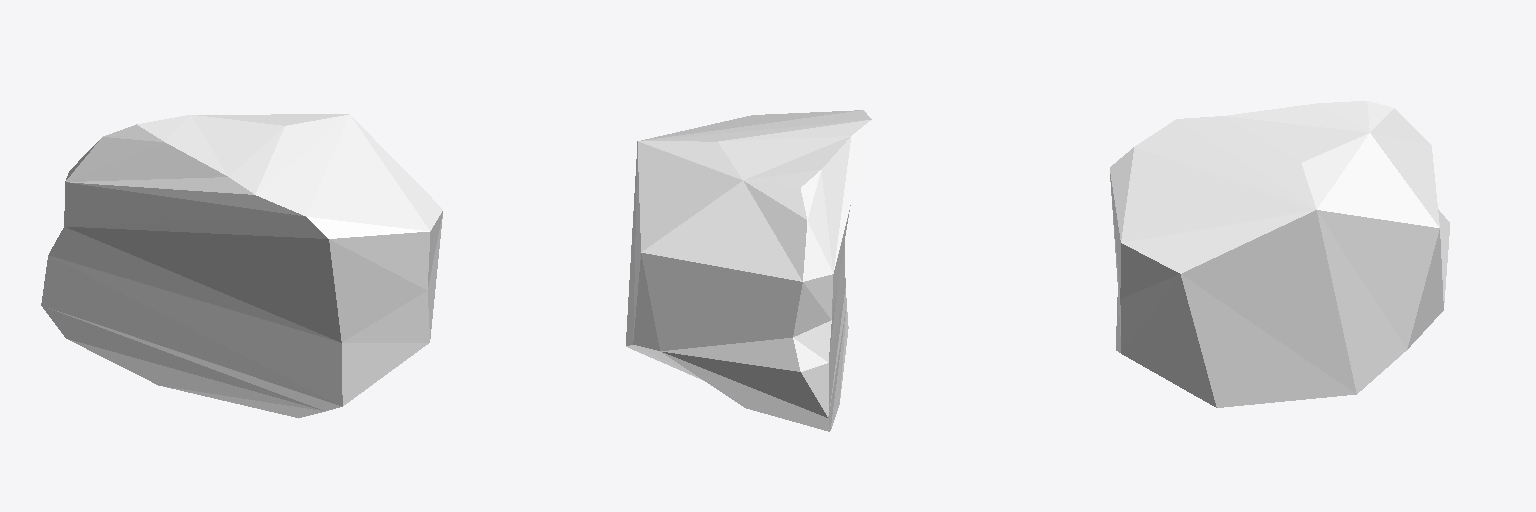
File: SM_Rock_01.obj
3 views of the same model, side by side, from view 1: azimuth 30°, elevation 25°; view 2: azimuth 150°, elevation 25°; view 3: azimuth 270°, elevation 25° (orthographic).
Visible parts, largest first — view 1: SM_Rock_01_Mesh; view 2: SM_Rock_01_Mesh; view 3: SM_Rock_01_Mesh.
Boxes of the visible parts, box(x1,y1,x2,y2) form: SM_Rock_01_Mesh: box(41, 114, 442, 418); SM_Rock_01_Mesh: box(626, 110, 871, 431); SM_Rock_01_Mesh: box(1110, 101, 1449, 407).
Bounding box in the file's own units: 0.3266 × 0.2681 × 0.3502.